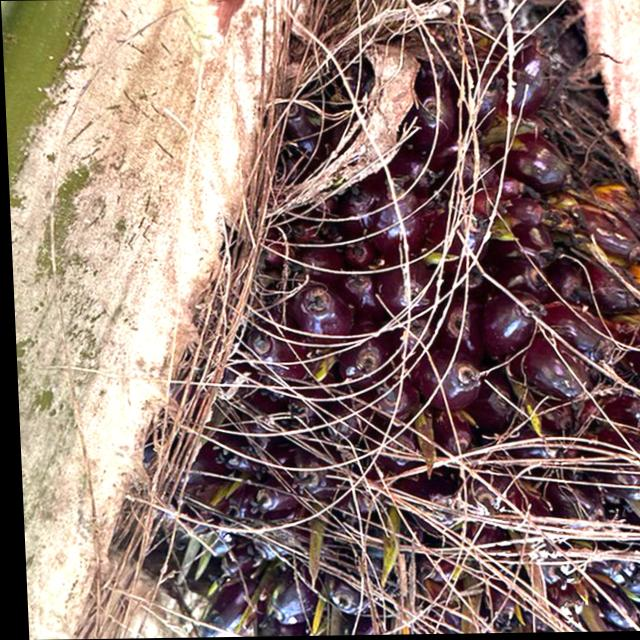almost: (83, 10, 640, 639)
